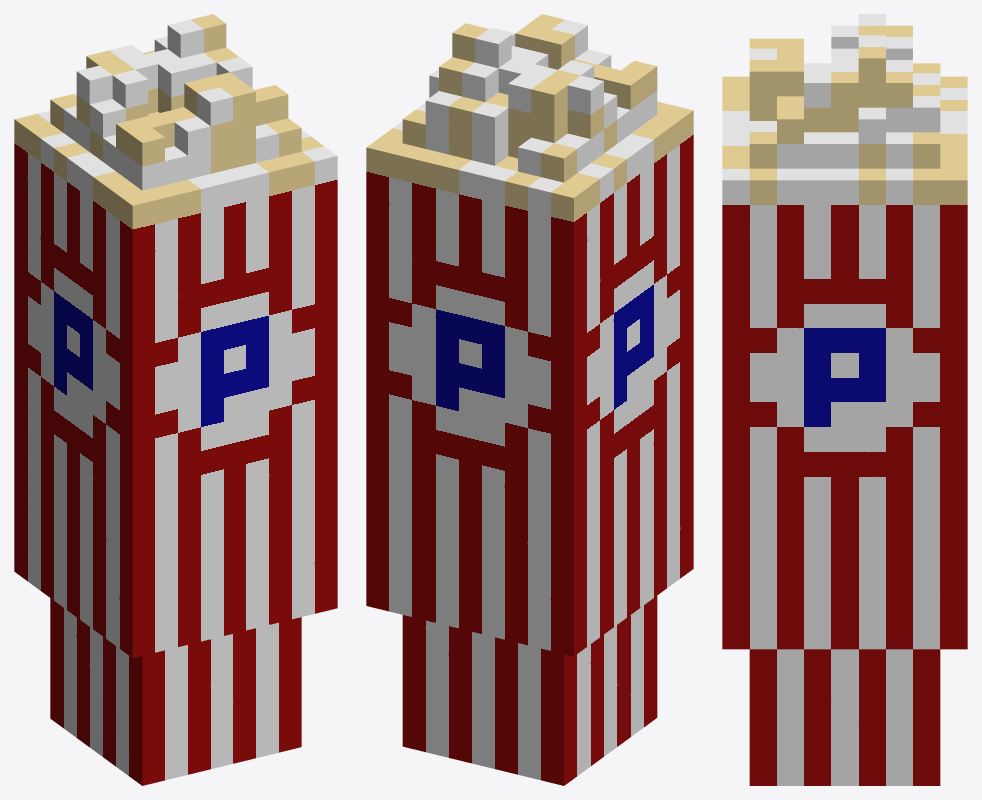
The model's file is PopCorn01.fbx.
The picture shows the model from 3 angles, left to right: view 1: azimuth 30°, elevation 25°; view 2: azimuth 150°, elevation 25°; view 3: azimuth 270°, elevation 25°; orthographic projection. The views are drawn at different scales.
Parts seen in each view (by area): view 1: Matrix; view 2: Matrix; view 3: Matrix.
Part boxes in pixels (bbox=[...]): Matrix: bbox=[14, 14, 337, 785]; Matrix: bbox=[366, 14, 693, 785]; Matrix: bbox=[722, 14, 967, 785].
Size of the model in its own units: 9 by 29 by 9.
